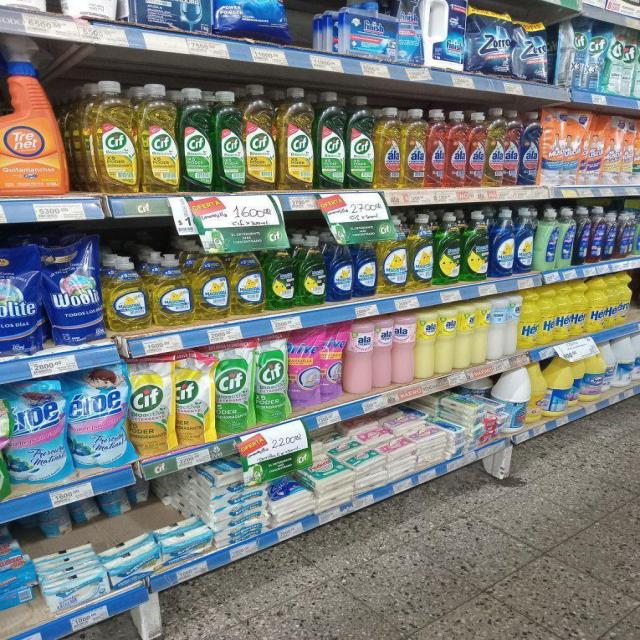ala_conc_amarillo: (376, 105, 402, 189), (402, 108, 426, 188), (487, 108, 503, 186)
ala_conc_azul: (520, 110, 539, 186)
ala_conc_rojo: (447, 110, 467, 188), (427, 108, 446, 188), (469, 110, 485, 188), (504, 110, 520, 187)
ala_crem_amarillo: (416, 312, 434, 379)
ala_crem_blanco: (488, 298, 504, 360), (504, 296, 517, 356)
ala_crem_rosado: (345, 321, 372, 394), (392, 314, 414, 386), (373, 318, 392, 390)
cif_conc_bot_amarilla: (80, 79, 136, 193), (139, 82, 179, 192), (278, 85, 314, 190), (246, 84, 276, 191)
cif_conc_botella_verde: (180, 86, 213, 192), (214, 88, 244, 192), (316, 90, 345, 189), (347, 93, 374, 189)
cif_conc_sachet_amarillo: (129, 360, 172, 454), (175, 353, 212, 444)
cif_conc_sachet_verde: (215, 344, 252, 434), (254, 337, 288, 423)
magistral_con_amarillo: (105, 255, 149, 332), (152, 253, 192, 326), (194, 250, 228, 320), (230, 251, 264, 315), (408, 213, 434, 290), (378, 230, 408, 294)
magistral_con_azul: (490, 208, 515, 276), (328, 236, 352, 302), (535, 208, 557, 271), (515, 207, 534, 274), (354, 240, 376, 297)
